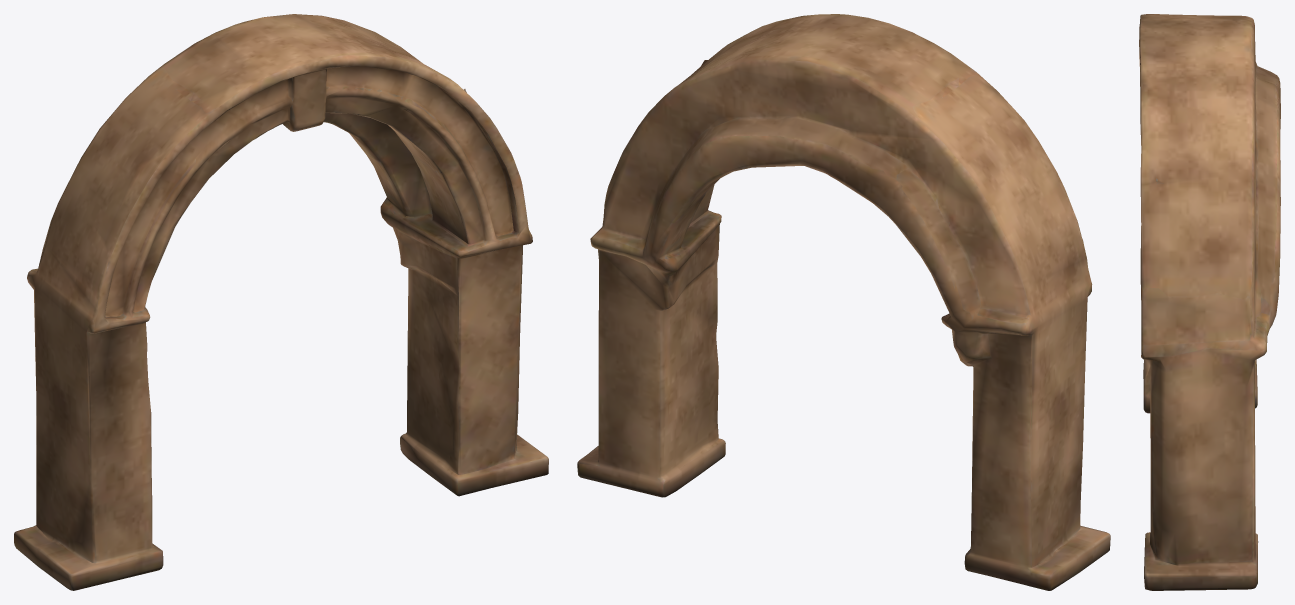
Rendered from plain-sandstone-street-arch-v001.glb.
3 renders of one model, left to right at view 1: azimuth 30°, elevation 25°; view 2: azimuth 150°, elevation 25°; view 3: azimuth 270°, elevation 25°, orthographic. The views are drawn at different scales.
Visible parts, largest first — view 1: plain-sandstone-street-arch; view 2: plain-sandstone-street-arch; view 3: plain-sandstone-street-arch.
Boxes of the visible parts, x1,y1,x2,y2 form: plain-sandstone-street-arch: (14, 14, 548, 590); plain-sandstone-street-arch: (577, 14, 1110, 590); plain-sandstone-street-arch: (1139, 14, 1280, 590).
Bounding box in the file's own units: 3.81 × 3.61 × 1.04.
1 material, 1 textured.
